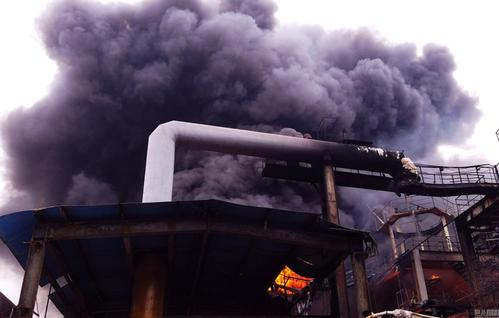fire: (268, 259, 335, 302)
smoke: (29, 9, 437, 200)
